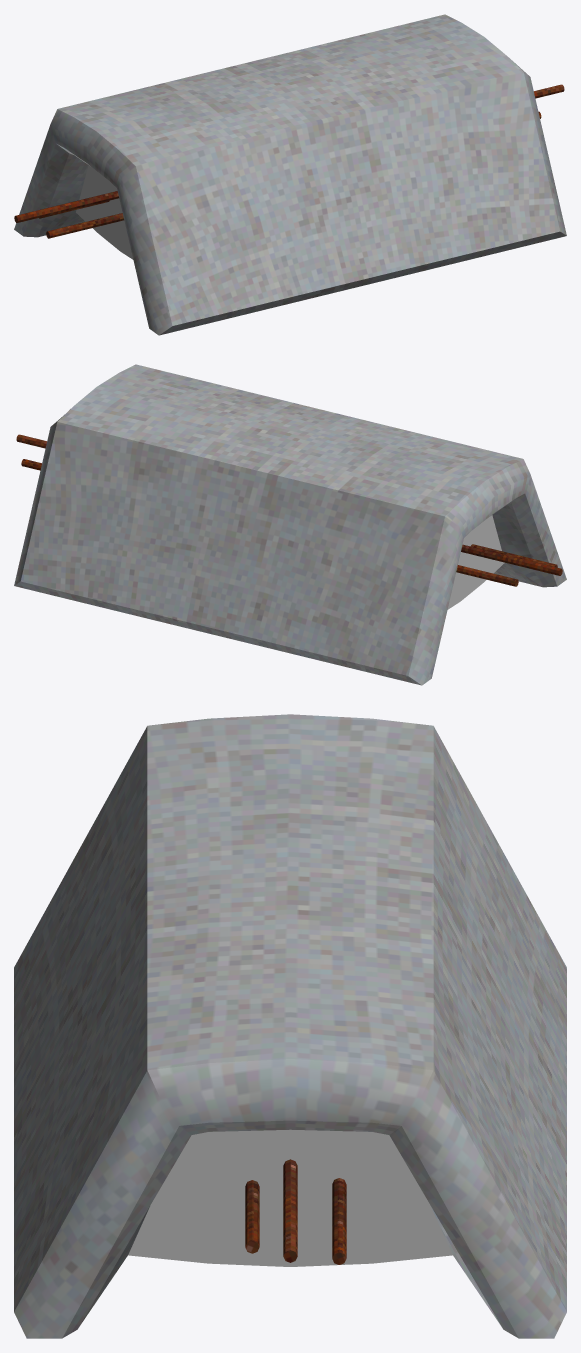
Rendered from shipwreckage.fbx.
3 renders of one model, top to bottom at view 1: azimuth 30°, elevation 25°; view 2: azimuth 150°, elevation 25°; view 3: azimuth 270°, elevation 25°, orthographic. The views are drawn at different scales.
Visible parts, largest first — view 1: geo_largewreck; view 2: geo_largewreck; view 3: geo_largewreck.
Boxes of the visible parts, <box> form: geo_largewreck: <box>14,14,566,335</box>; geo_largewreck: <box>14,364,566,685</box>; geo_largewreck: <box>14,714,566,1338</box>.
Size of the model in its own units: 800 by 209 by 387.
